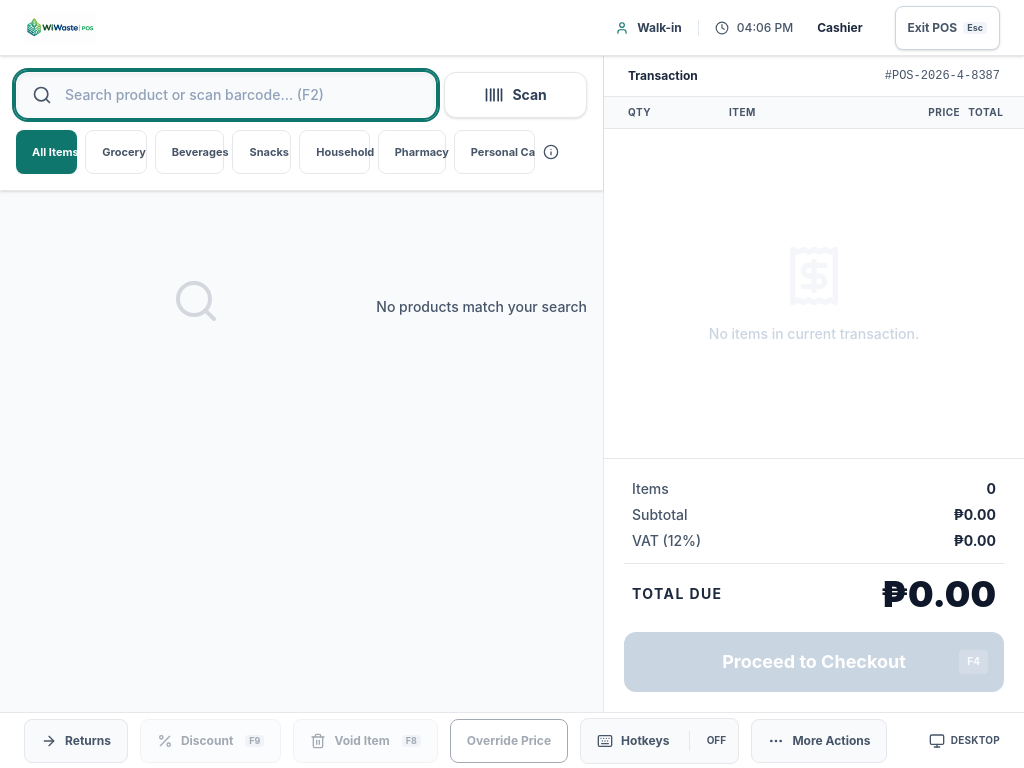
Test: Barcode scan handling › falls back to productsApi.lookup for an unknown barcode
Type "999999999" into the field with placeholder "Search product or scan barcode... (F2)" at (226, 95), box 16,72 -> 436,118
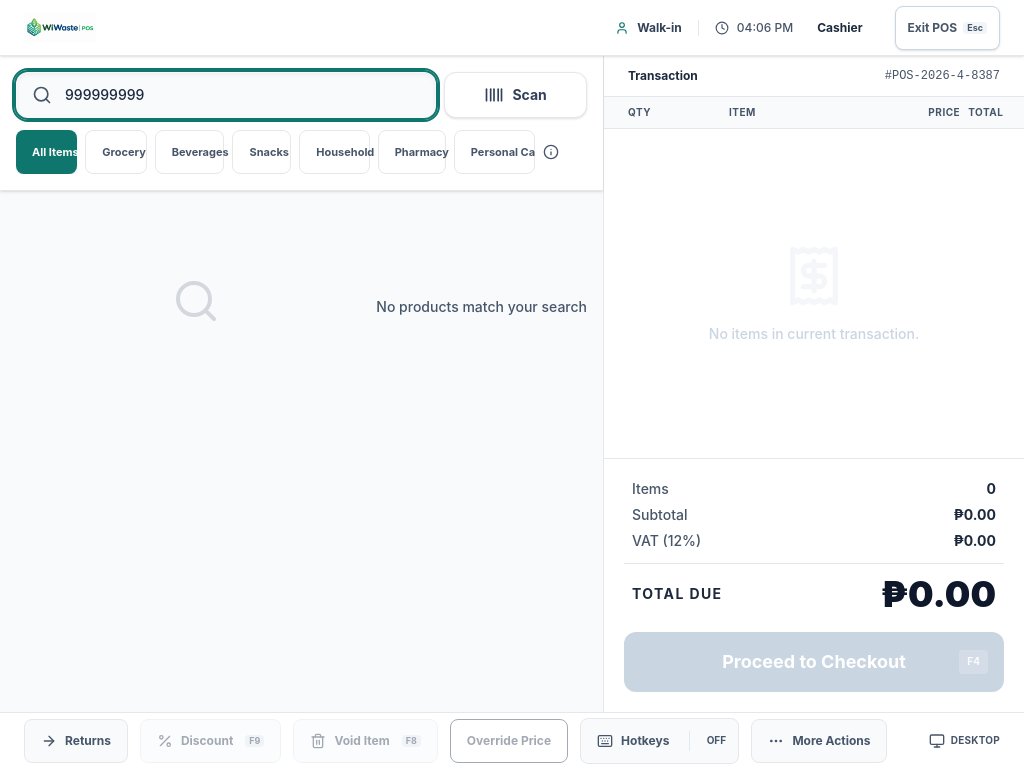
Press Enter in the field with placeholder "Search product or scan barcode... (F2)", box 16,72 -> 436,118
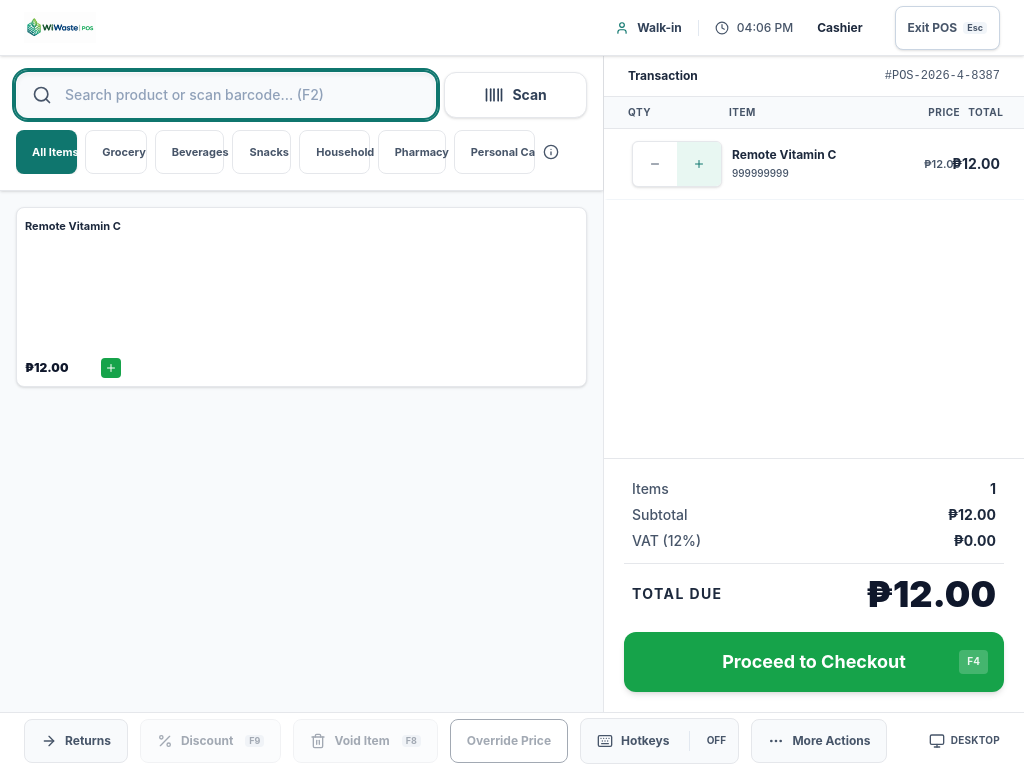
Expected: the text "No items in current transaction." is gone
